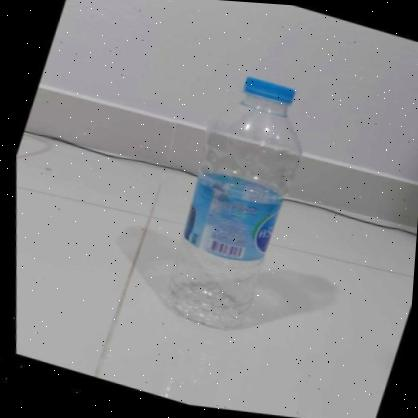bottle: (164, 69, 309, 335)
cap: (243, 76, 298, 106)
label: (178, 172, 287, 263)
